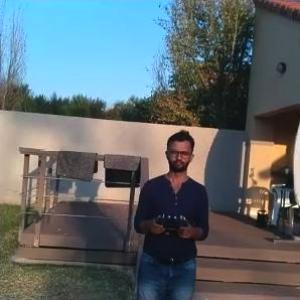follow: (128, 125, 213, 299)
